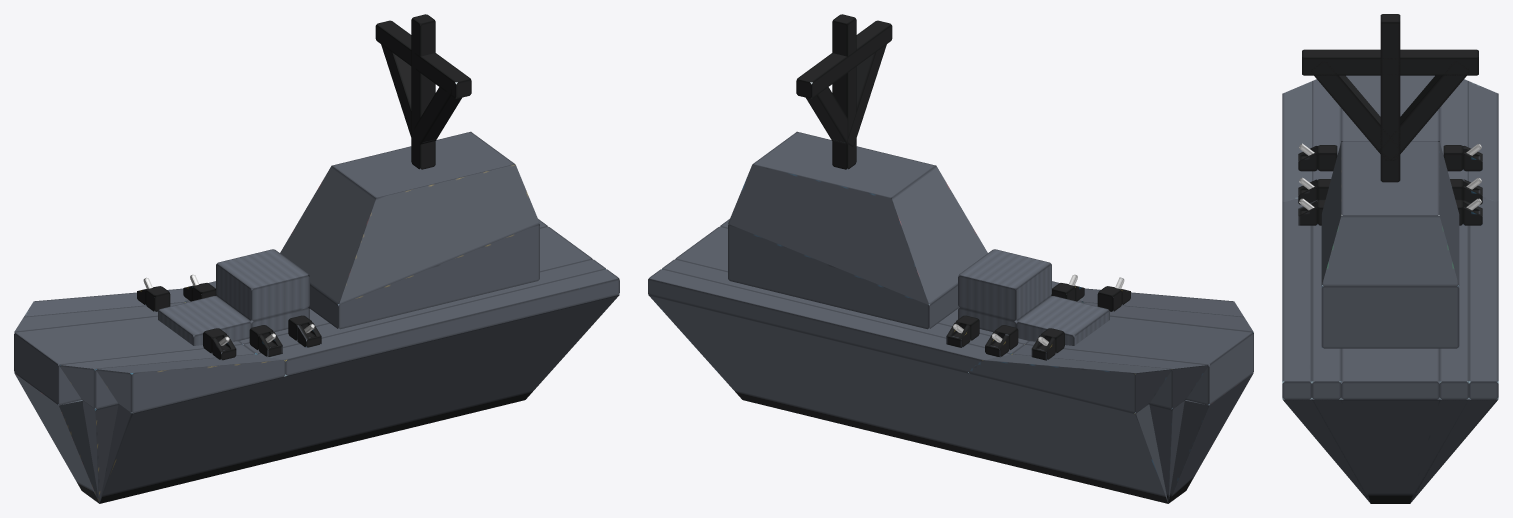
Rendered from cruiser.fbx.
The picture shows the model from 3 angles, left to right: view 1: azimuth 30°, elevation 25°; view 2: azimuth 150°, elevation 25°; view 3: azimuth 270°, elevation 25°; orthographic projection. The views are drawn at different scales.
Parts seen in each view (by area): view 1: cube, cube_8, cube_7, cube_9, cube_10, cube_12, cube_11, cube_6, cube_4, cube_5; view 2: cube, cube_8, cube_7, cube_10, cube_9, cube_12, cube_11, cube_3, cube_1, cube_2; view 3: cube, cube_8, cube_10, cube_9, cube_11, cube_12, cube_3, cube_6, cube_2, cube_5, cube_4, cube_1.
Part boxes in pixels (x1,y1,x2,y2): cube: (14, 219, 619, 503); cube_8: (280, 131, 539, 329); cube_7: (158, 249, 309, 345); cube_9: (411, 14, 435, 169); cube_10: (375, 20, 471, 98); cube_12: (410, 82, 461, 144); cube_11: (381, 44, 434, 142); cube_6: (203, 328, 236, 360); cube_4: (288, 315, 321, 347); cube_5: (249, 325, 282, 356); cube: (648, 219, 1253, 503); cube_8: (728, 131, 987, 329); cube_7: (958, 249, 1109, 345); cube_10: (796, 20, 892, 98); cube_9: (832, 14, 856, 169); cube_12: (833, 44, 886, 146); cube_11: (806, 82, 847, 144); cube_3: (1031, 328, 1064, 360); cube_1: (946, 315, 979, 347); cube_2: (985, 325, 1018, 357); cube: (1282, 75, 1498, 503); cube_8: (1321, 141, 1459, 348); cube_10: (1302, 49, 1478, 75); cube_9: (1380, 14, 1400, 182); cube_11: (1379, 61, 1469, 160); cube_12: (1311, 62, 1400, 160); cube_3: (1443, 145, 1482, 171); cube_6: (1298, 145, 1337, 171); cube_2: (1450, 179, 1482, 204); cube_5: (1298, 179, 1330, 204); cube_4: (1298, 199, 1325, 225); cube_1: (1455, 199, 1482, 225).
Size of the model in its own units: 431 by 306 by 138.
Materials: 1 (1 with a texture image).
